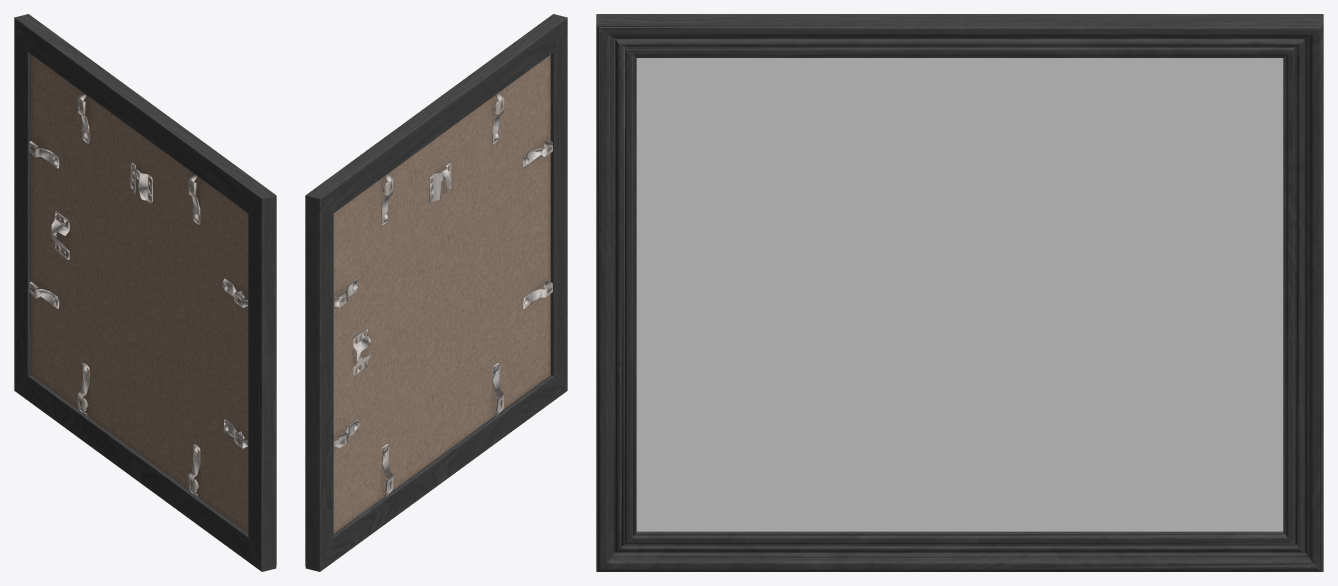
File: decor_painting_a01.glb
3 views of the same model, side by side, from view 1: azimuth 30°, elevation 25°; view 2: azimuth 150°, elevation 25°; view 3: azimuth 270°, elevation 25° (orthographic). The views are drawn at different scales.
Visible parts, largest first — view 1: sm_decor_painting_a01_01; view 2: sm_decor_painting_a01_01; view 3: sm_decor_painting_a01_01.
Boxes of the visible parts, box(x1,y1,x2,y2) form: sm_decor_painting_a01_01: box(14, 14, 276, 571); sm_decor_painting_a01_01: box(305, 14, 567, 571); sm_decor_painting_a01_01: box(596, 14, 1323, 571).
Bounding box in the file's own units: 0.0282 × 0.4925 × 0.5925.
3 materials, 2 textured.
